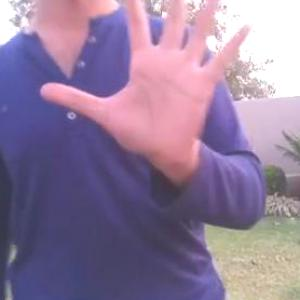follow_hand: (33, 0, 257, 169)
